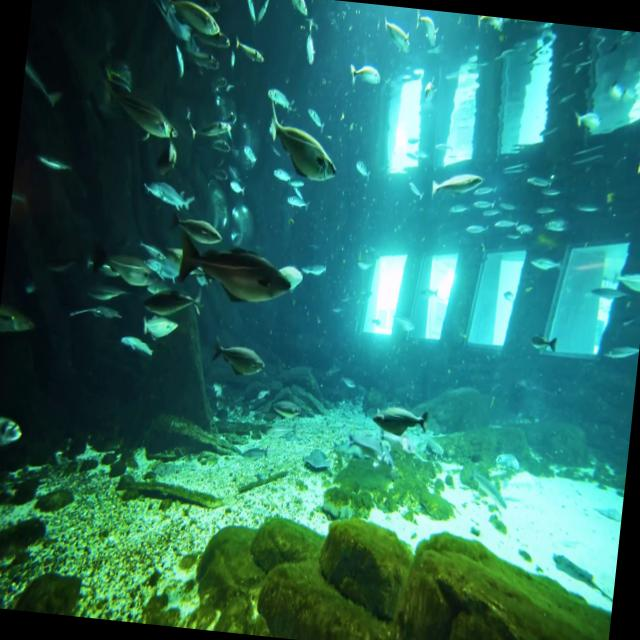fish: (170, 226, 307, 312), (86, 48, 190, 150), (257, 99, 350, 195), (86, 234, 171, 302), (357, 388, 438, 454), (205, 319, 272, 393), (134, 169, 203, 224), (293, 8, 337, 88), (162, 0, 225, 49), (428, 161, 493, 208), (130, 295, 184, 347), (336, 47, 389, 99), (403, 8, 452, 60), (374, 14, 420, 68), (0, 293, 40, 340), (119, 325, 162, 363), (526, 324, 566, 364), (142, 129, 183, 168), (232, 25, 268, 66), (0, 411, 25, 461), (627, 134, 640, 188)
